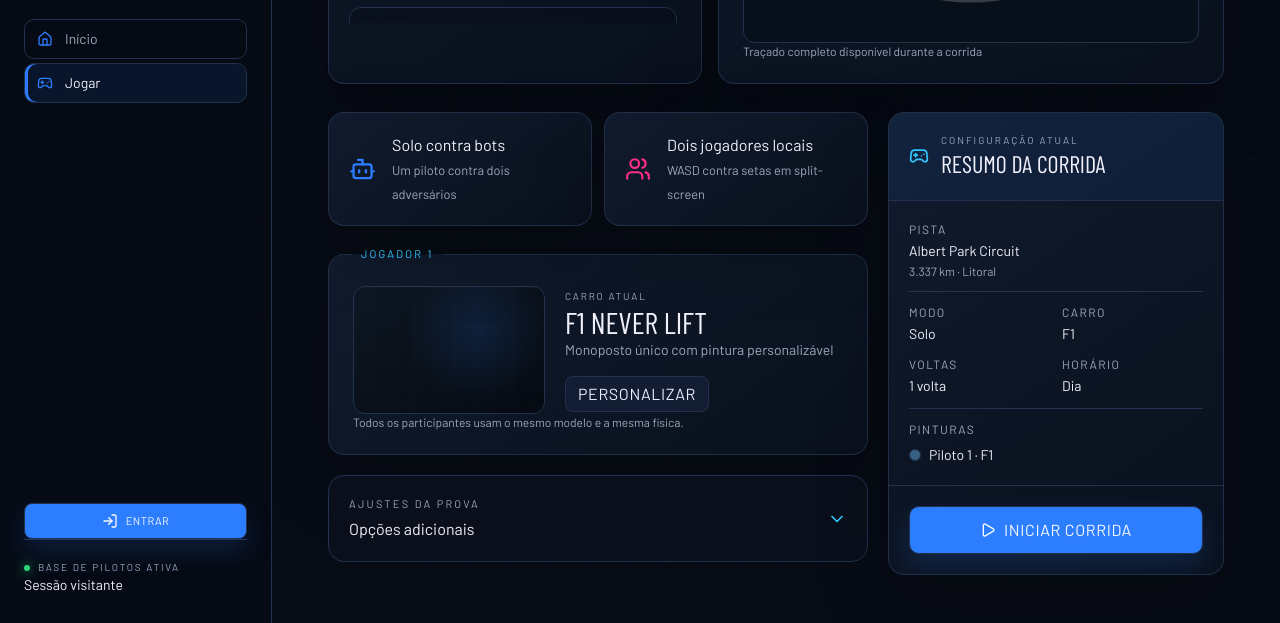
Test: Module 2b race setup › fixes the selected visual preset before starting the race
(page scrolled)
Click the text "Opções adicionais" at [414, 529], box left=349, top=517, right=480, bottom=541
(page scrolled)
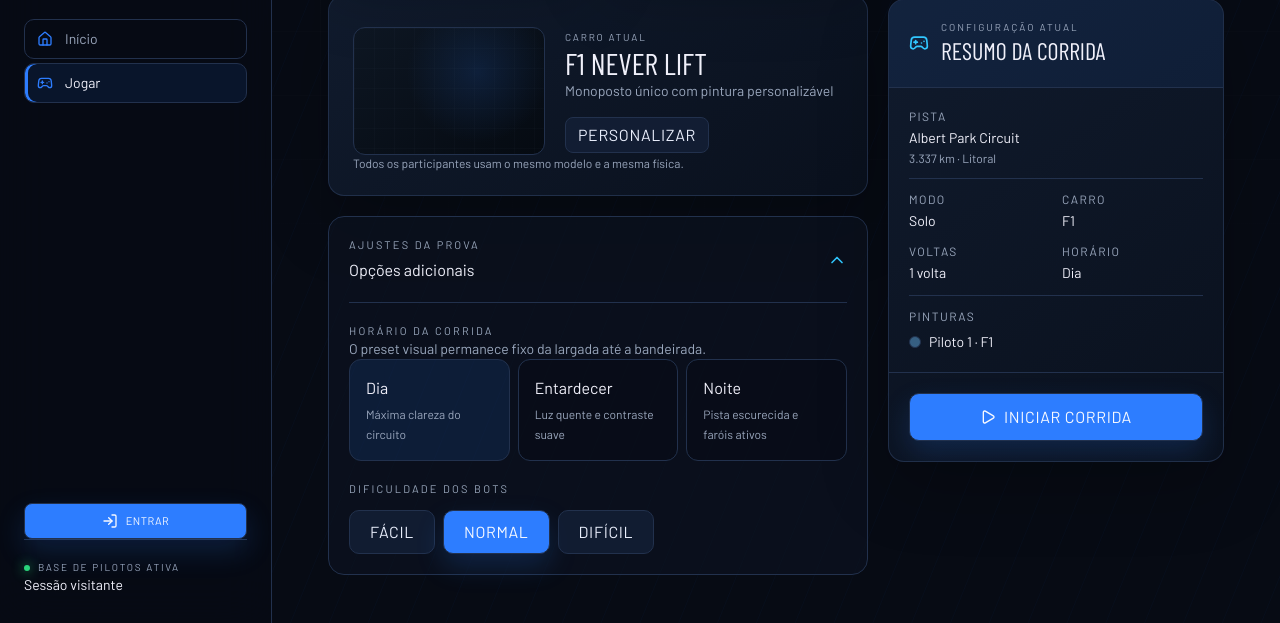
Click the button "Noite Pista escurecida e faróis ativos" at [767, 410], box left=686, top=360, right=847, bottom=462
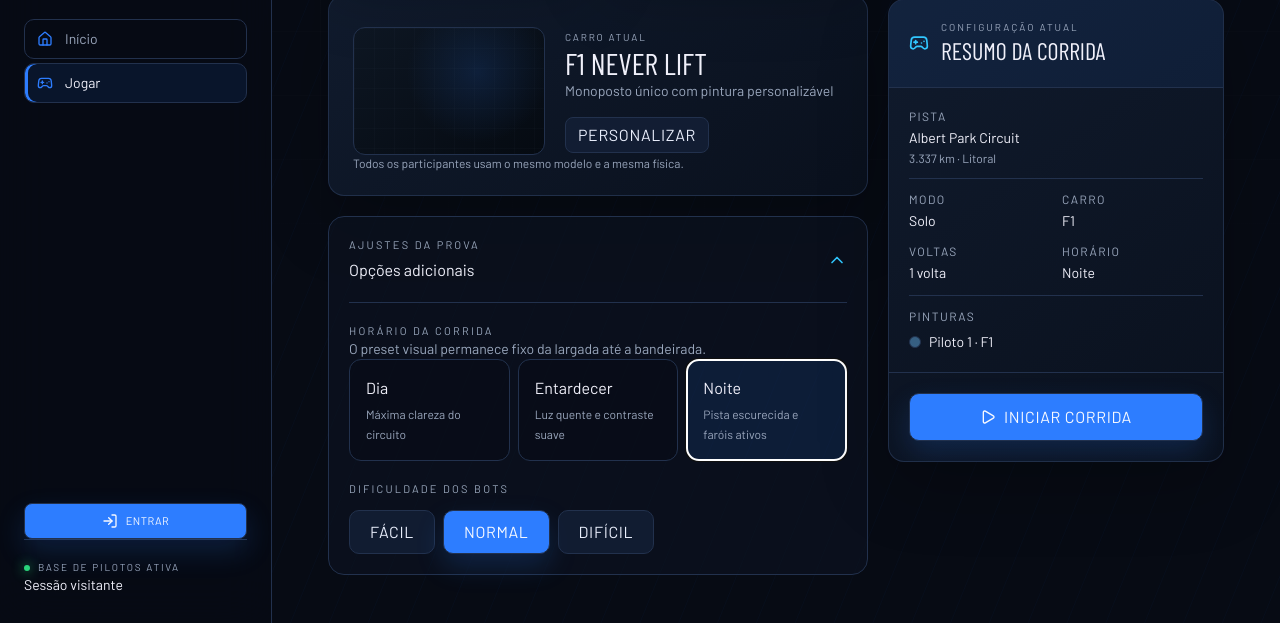
Result: the element "Resumo da corrida" shows "Noite" at left=1062, top=264, right=1095, bottom=281
